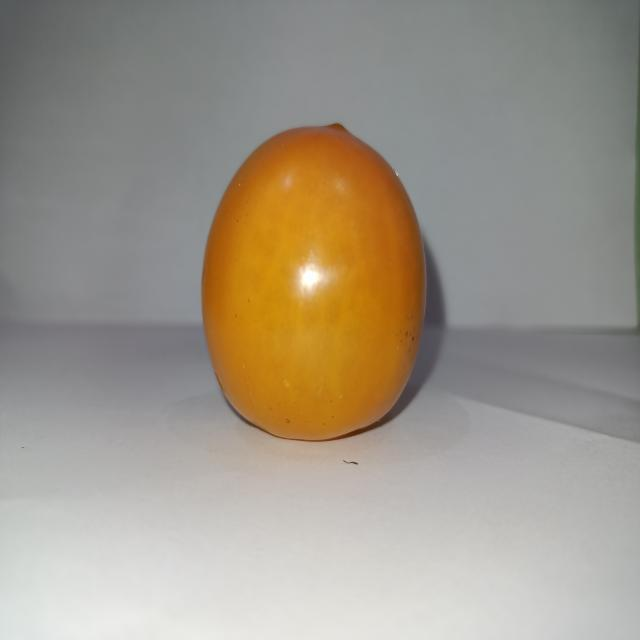Red: (199, 121, 427, 442)
